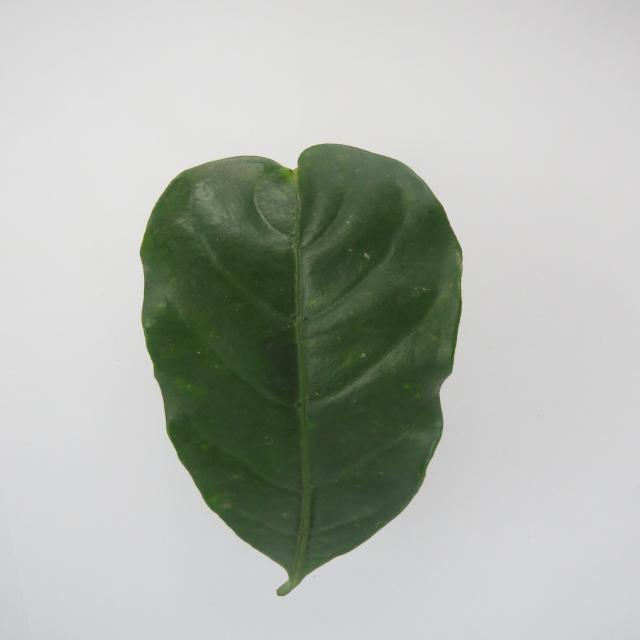DeficienciaNutricional-Boro: (140, 144, 462, 595)
